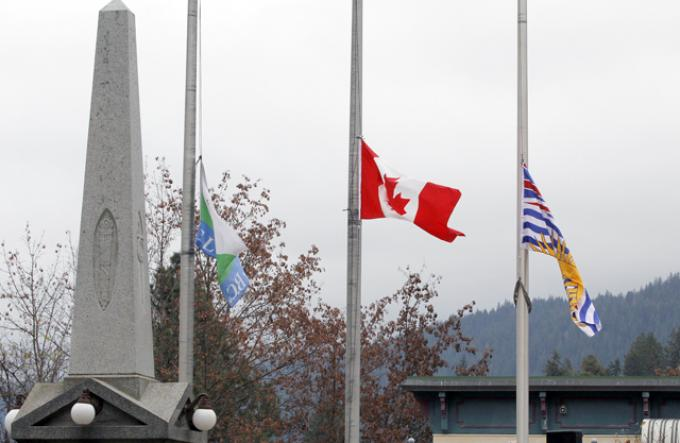Flag: (516, 157, 611, 340), (343, 133, 470, 256), (181, 154, 259, 311)
